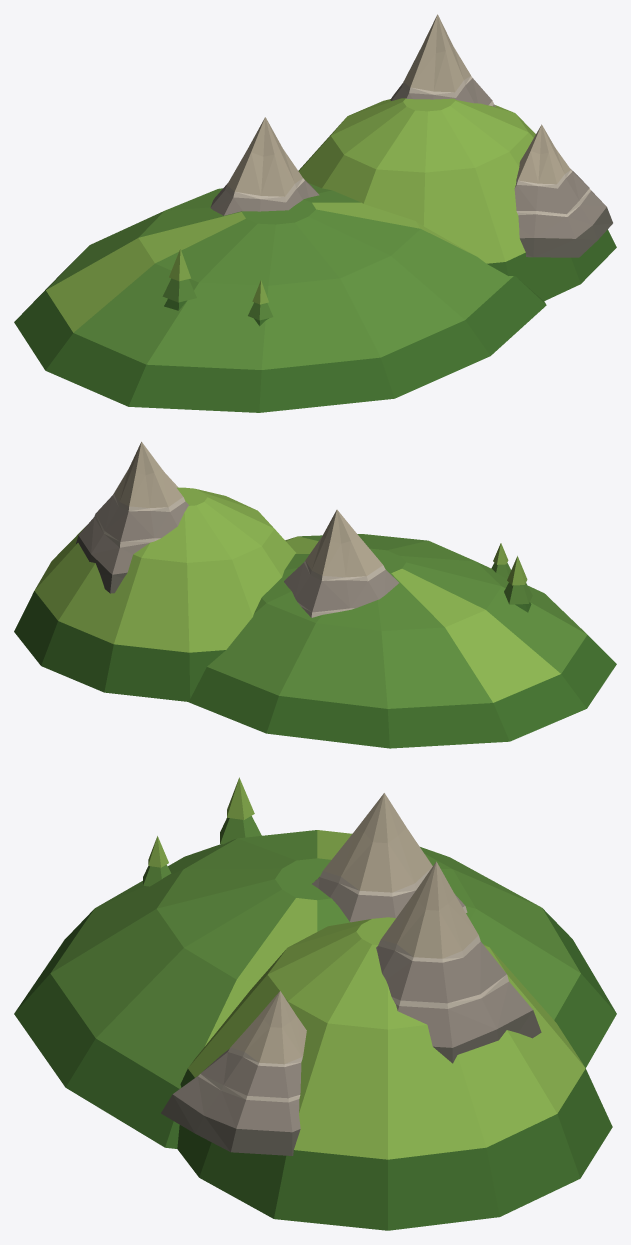
Rendered from hill_rocks.glb.
3 renders of one model, top to bottom at view 1: azimuth 30°, elevation 25°; view 2: azimuth 150°, elevation 25°; view 3: azimuth 270°, elevation 25°, orthographic. The views are drawn at different scales.
Parts seen in each view (by area): view 1: hill_rocks; view 2: hill_rocks; view 3: hill_rocks.
Boxes of the visible parts, x1,y1,x2,y2 form: hill_rocks: [14, 14, 616, 412]; hill_rocks: [14, 441, 616, 748]; hill_rocks: [14, 777, 616, 1230].
Size of the model in its own units: 1.16 by 0.42 by 0.8108.
